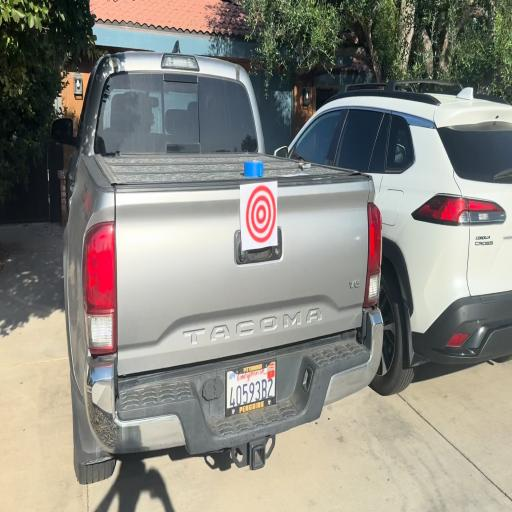bullseye: (243, 182, 277, 249)
